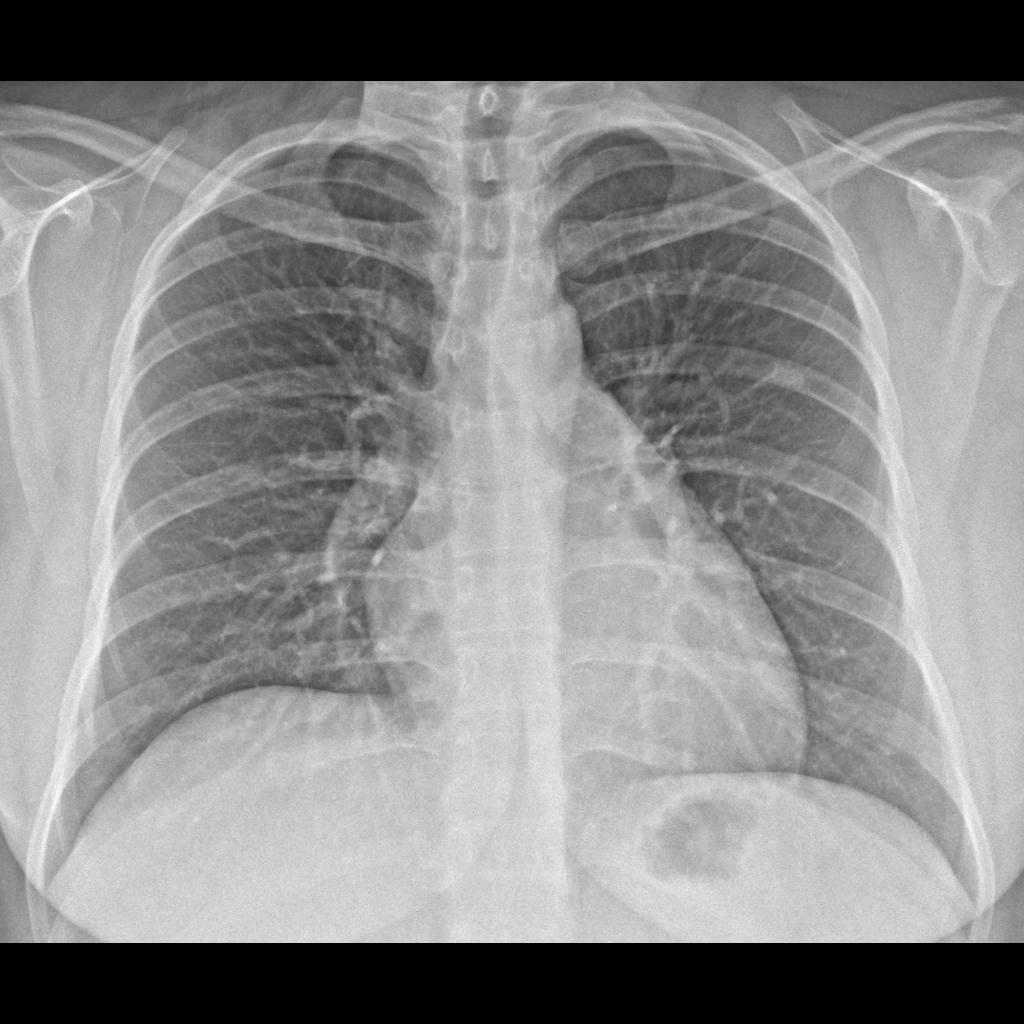Nodule: (764, 353, 813, 409)
